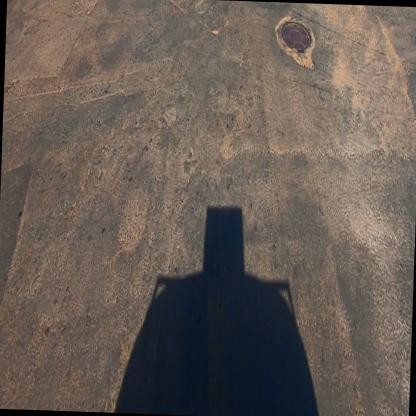manholes: (272, 4, 322, 80)
